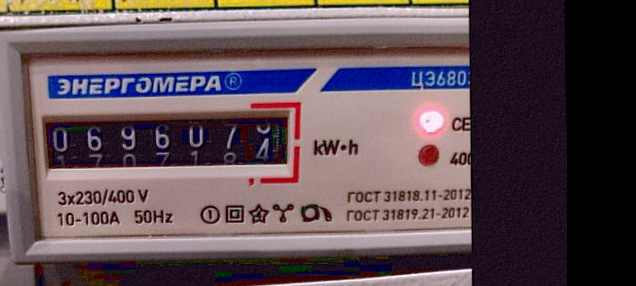0: (187, 119, 205, 149), (52, 125, 69, 153)
4: (254, 133, 271, 163)
6: (86, 123, 103, 152), (154, 121, 171, 150)
7: (221, 120, 240, 151)
9: (119, 123, 137, 151)
screen: (29, 98, 307, 185)
